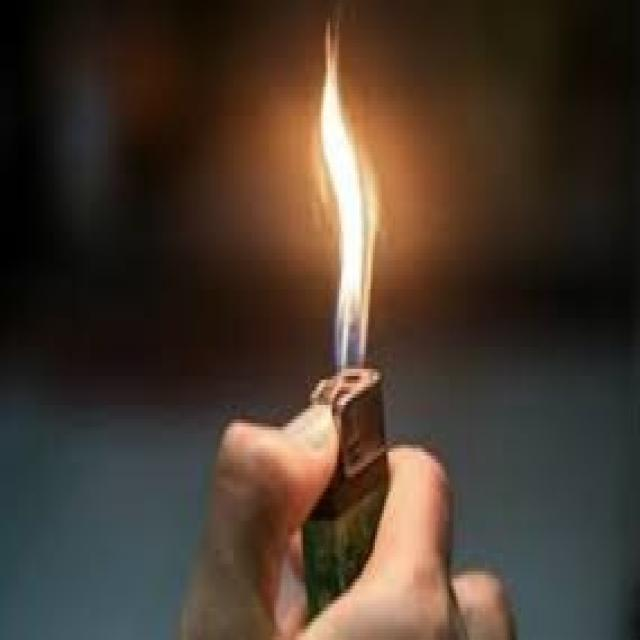fire: (323, 20, 378, 368)
